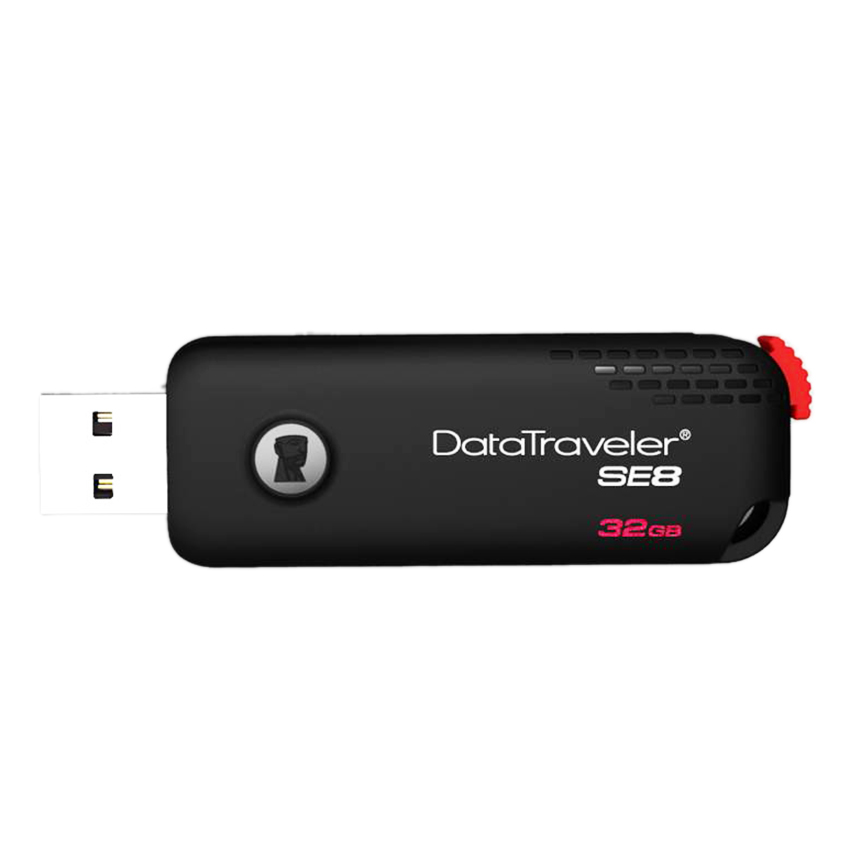Kingston: (264, 424, 321, 493)
